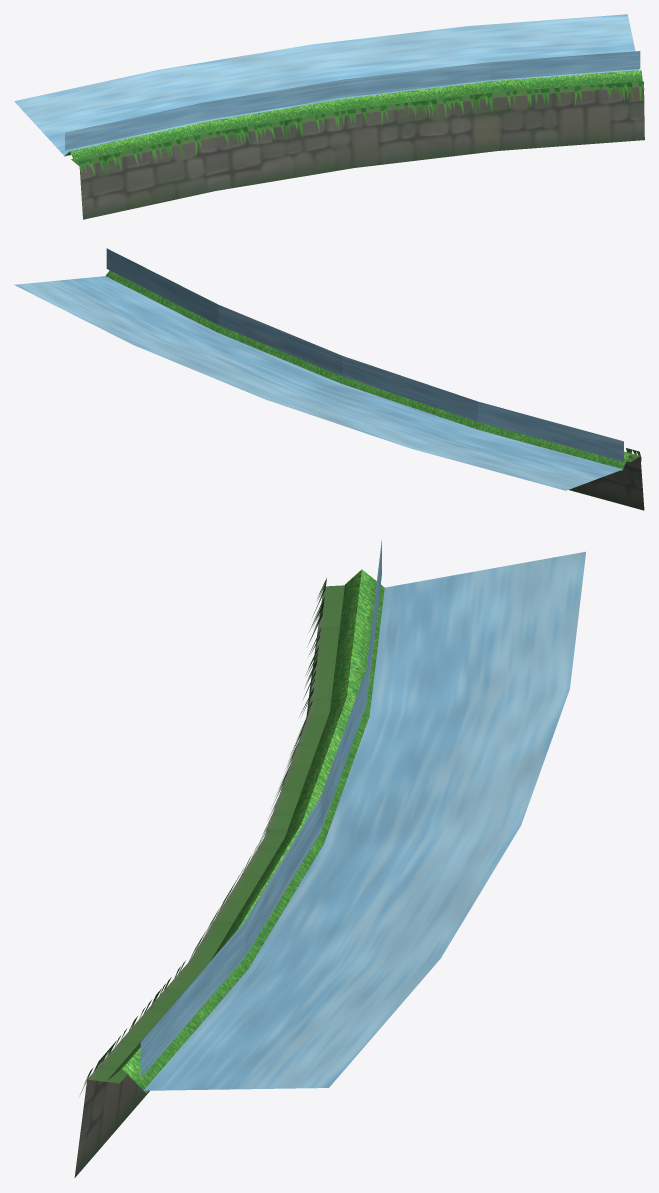
Rendered from terrace_concave_flooded_far.glb.
3 renders of one model, top to bottom at view 1: azimuth 30°, elevation 25°; view 2: azimuth 150°, elevation 25°; view 3: azimuth 270°, elevation 25°, orthographic. The views are drawn at different scales.
Parts seen in each view (by area): view 1: terrace_concave_flooded_far_water, terrace_concave_flooded_far_wall, terrace_concave_flooded_far_dike, terrace_concave_flooded_far_cards; view 2: terrace_concave_flooded_far_water, terrace_concave_flooded_far_dike, terrace_concave_flooded_far_wall; view 3: terrace_concave_flooded_far_water, terrace_concave_flooded_far_wall, terrace_concave_flooded_far_dike, terrace_concave_flooded_far_cards.
Boxes of the visible parts, left/top/right/bottom form: terrace_concave_flooded_far_water: left=14, top=14, right=640, bottom=156; terrace_concave_flooded_far_wall: left=71, top=81, right=644, bottom=219; terrace_concave_flooded_far_dike: left=64, top=70, right=642, bottom=161; terrace_concave_flooded_far_cards: left=79, top=81, right=644, bottom=176; terrace_concave_flooded_far_water: left=14, top=248, right=623, bottom=490; terrace_concave_flooded_far_dike: left=105, top=270, right=633, bottom=471; terrace_concave_flooded_far_wall: left=569, top=451, right=644, bottom=510; terrace_concave_flooded_far_water: left=140, top=540, right=585, bottom=1090; terrace_concave_flooded_far_wall: left=74, top=585, right=344, bottom=1177; terrace_concave_flooded_far_dike: left=107, top=569, right=384, bottom=1093; terrace_concave_flooded_far_cards: left=79, top=578, right=326, bottom=1096.
Size of the model in its own units: 12.73 by 1.64 by 5.15.
3 materials, 3 textured.
